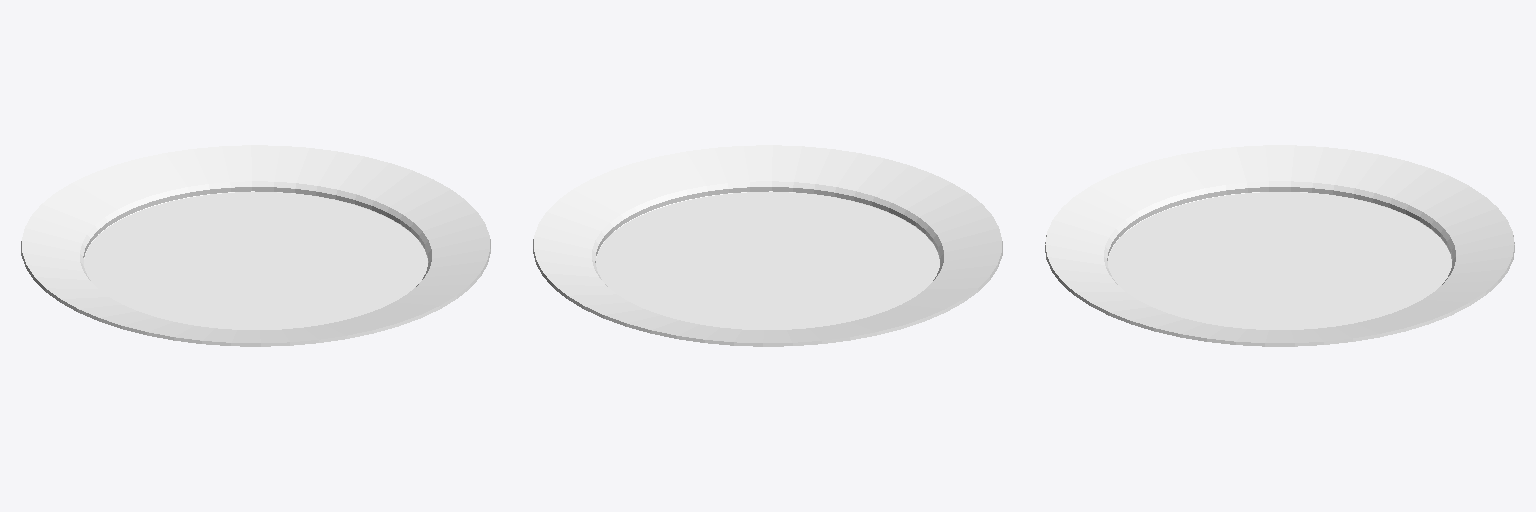
File: plate.obj
The picture shows the model from 3 angles: view 1: azimuth 30°, elevation 25°; view 2: azimuth 150°, elevation 25°; view 3: azimuth 270°, elevation 25°; orthographic projection.
Visible parts, largest first — view 1: Circle; view 2: Circle; view 3: Circle.
Boxes of the visible parts, x1,y1,x2,y2 form: Circle: [21, 145, 490, 346]; Circle: [533, 145, 1002, 346]; Circle: [1045, 145, 1514, 346].
Size of the model in its own units: 20.01 by 1.1 by 20.05.